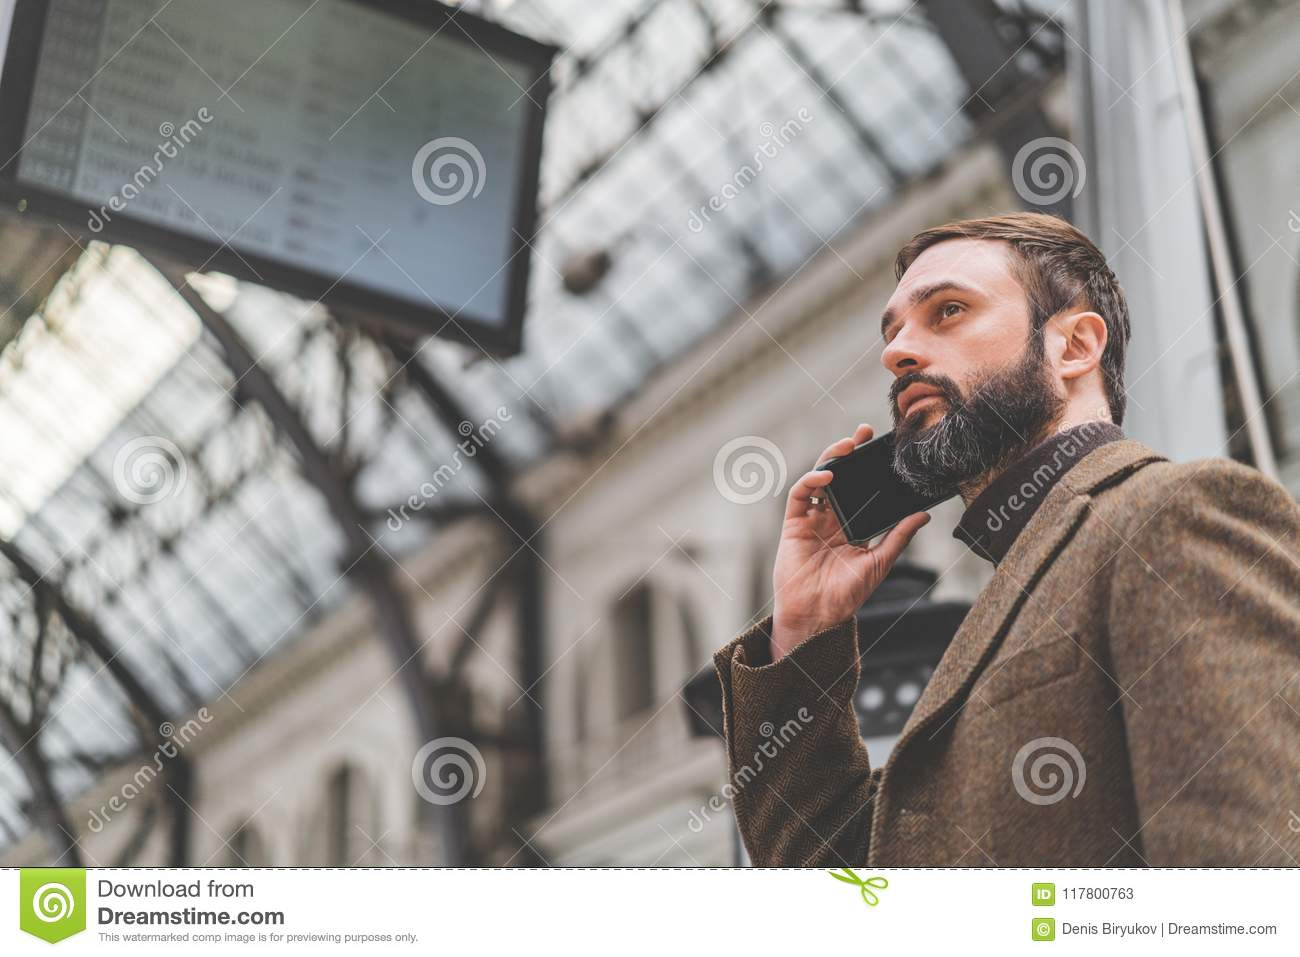phone: (816, 430, 954, 544)
talk: (758, 271, 997, 628)
